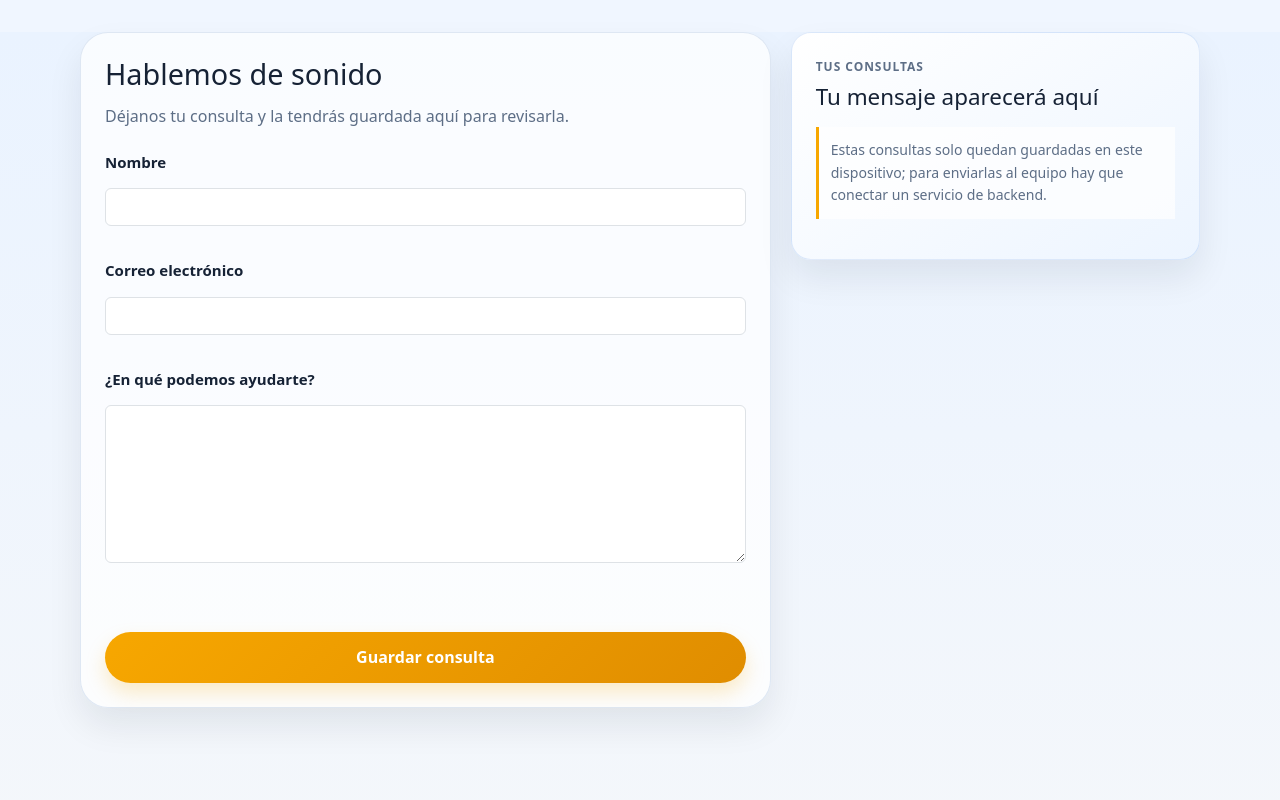
Test case: 7. guarda y muestra una consulta válida
Step 1. Type "Laura Pérez" into the field labelled "Nombre" → (425, 207), box [105, 188, 746, 226]
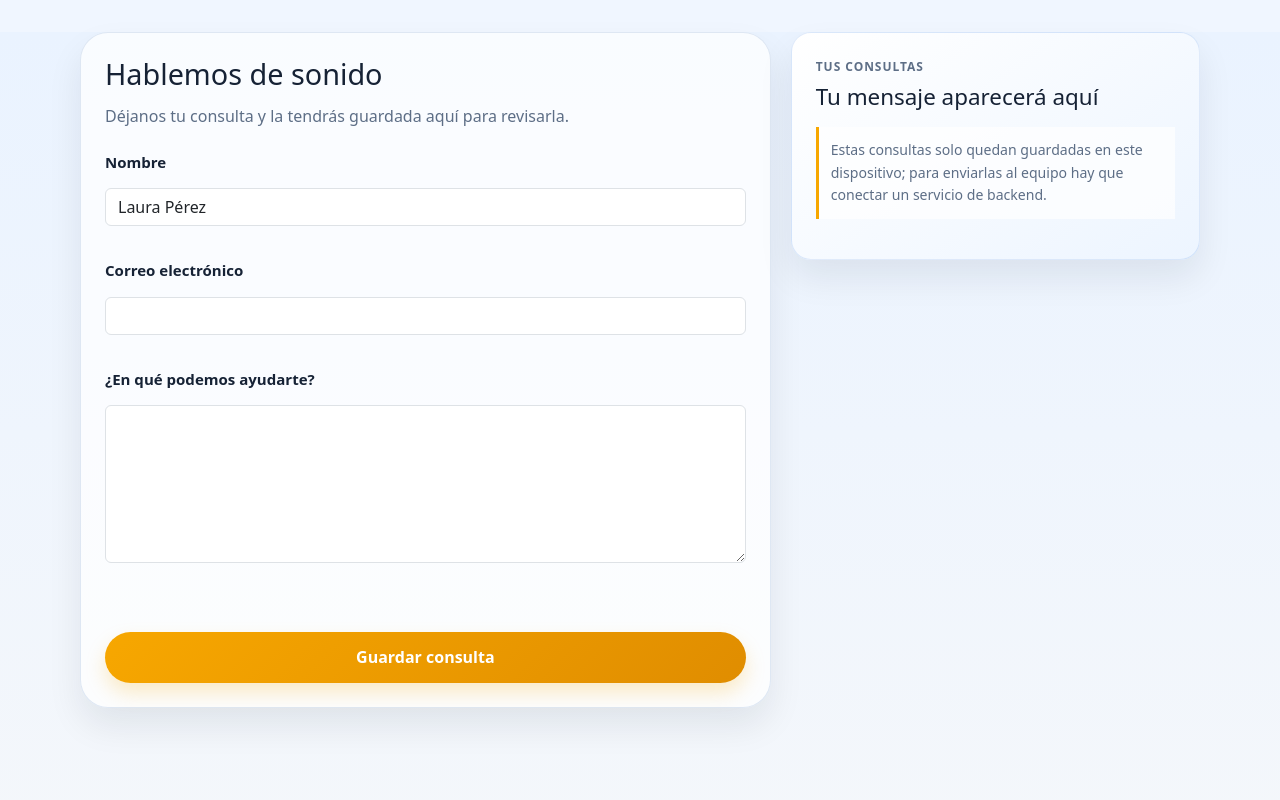
Step 2. Type "laura@correo.cl" into the field labelled "Correo electrónico" → (425, 316), box [105, 297, 746, 335]
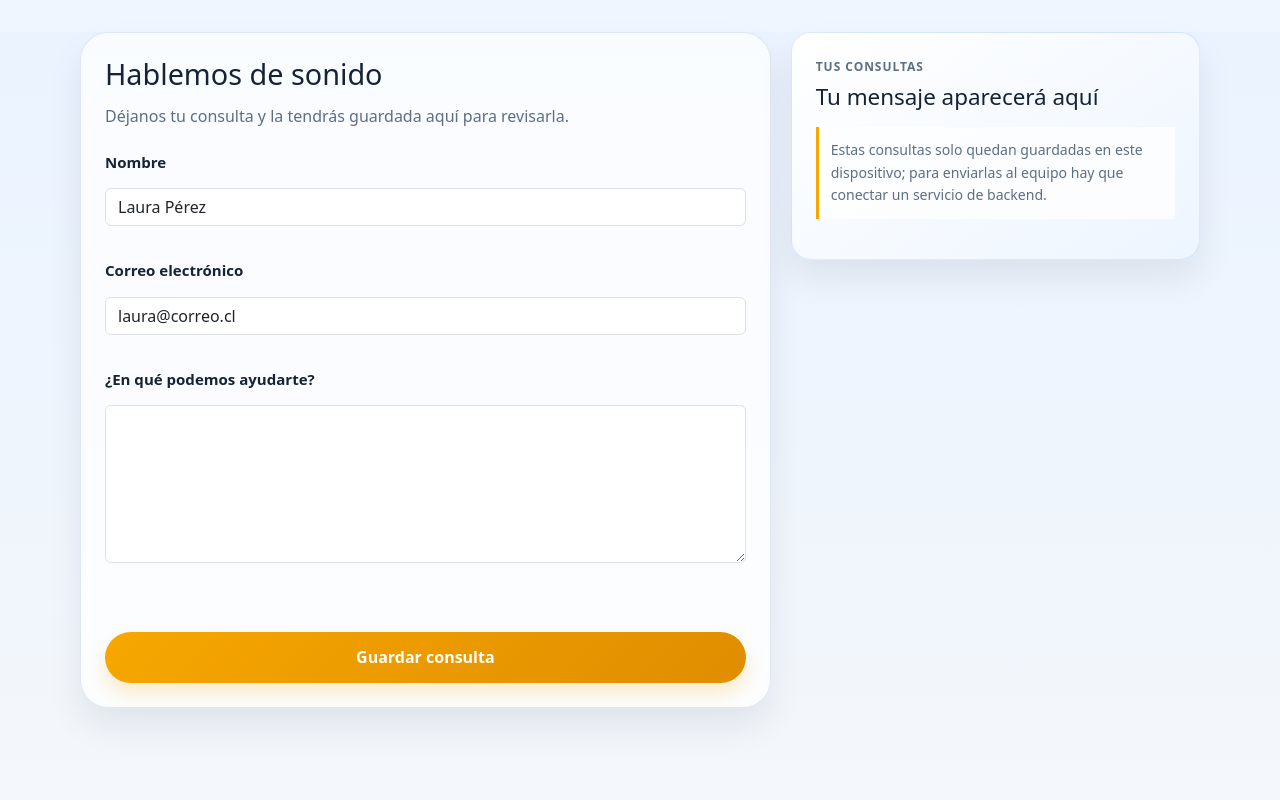
Step 3. Type "Quiero conocer disponibilidad de parlantes." into the text box labelled "¿En qué podemos ayudarte?" → (425, 484), box [105, 405, 746, 563]
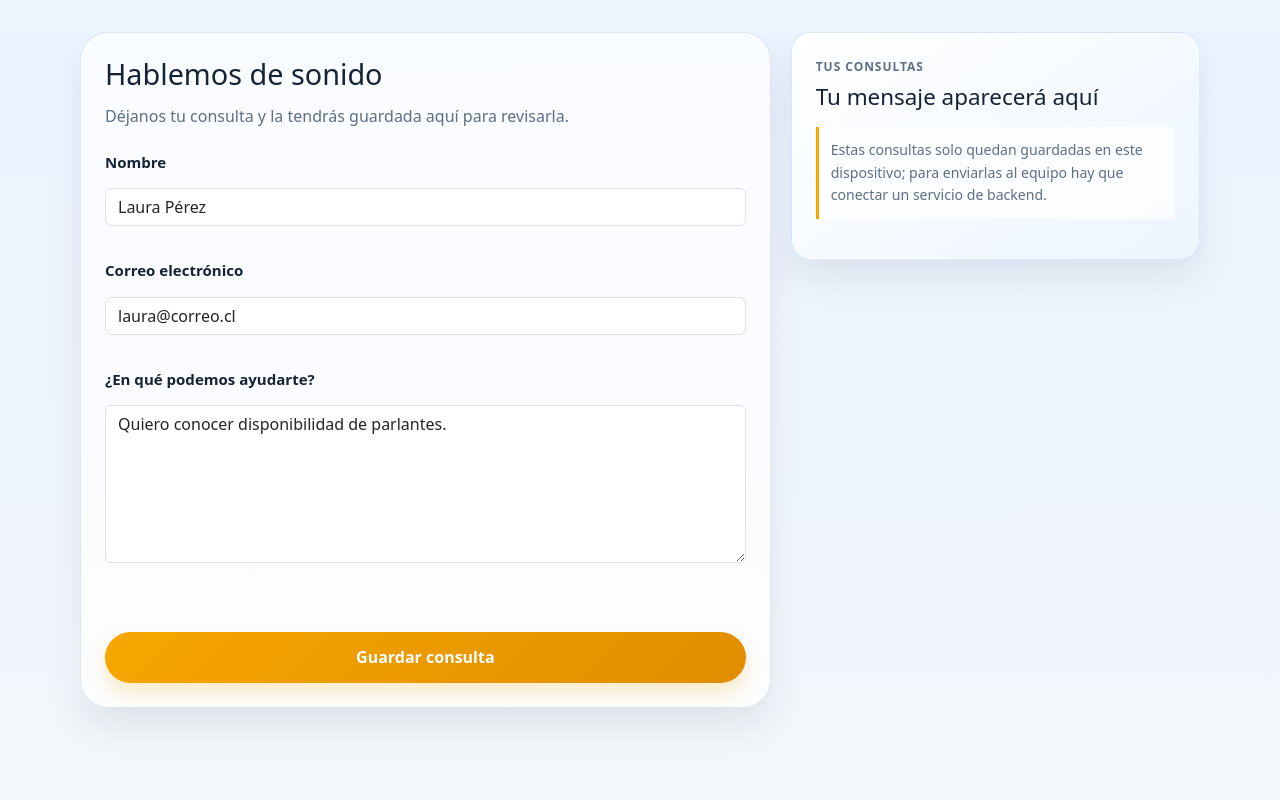
Step 4. Click the button "Guardar consulta" → (425, 658), box [105, 632, 746, 683]
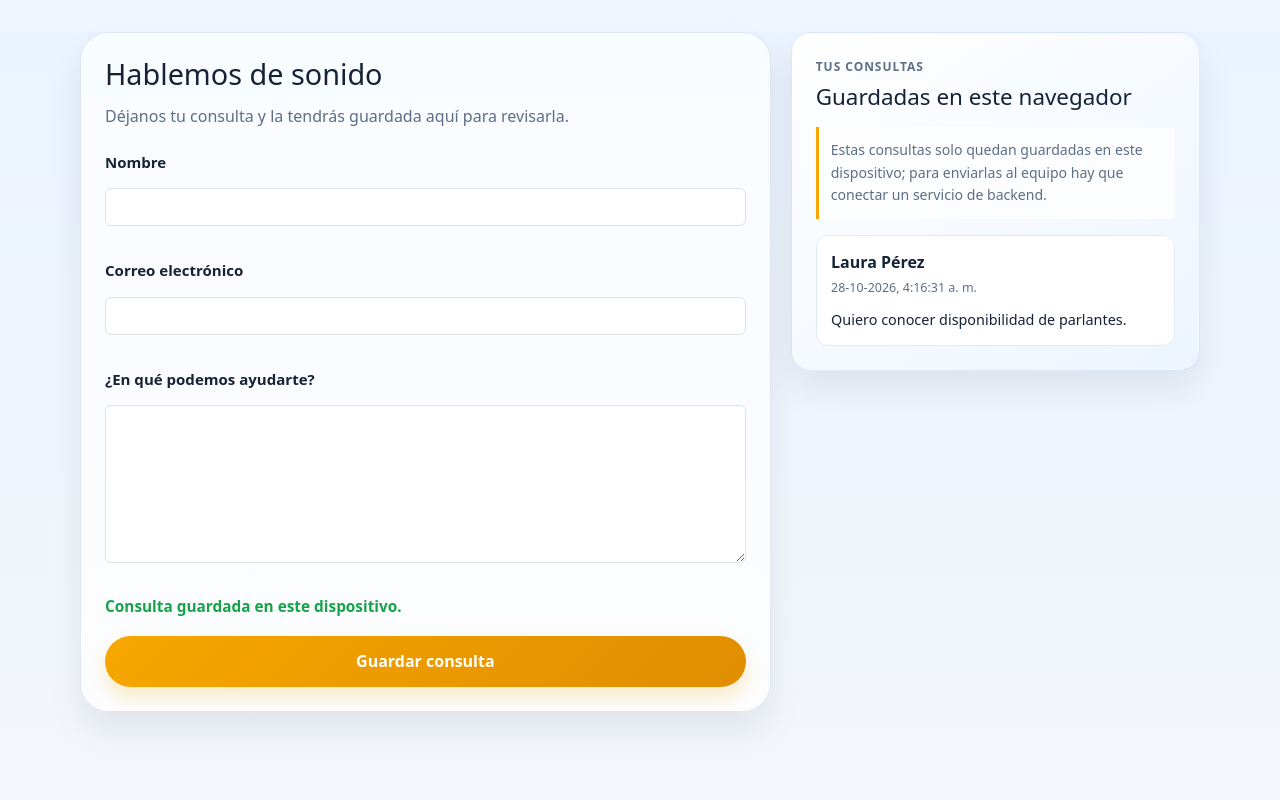
Expected: the text "Consulta guardada en este dispositivo." is shown, [105, 596, 402, 617]
Expected: the text "Quiero conocer disponibilidad de parlantes." is shown, [831, 308, 1160, 331]
Expected: the field labelled "Nombre" is empty, [105, 188, 746, 226]
